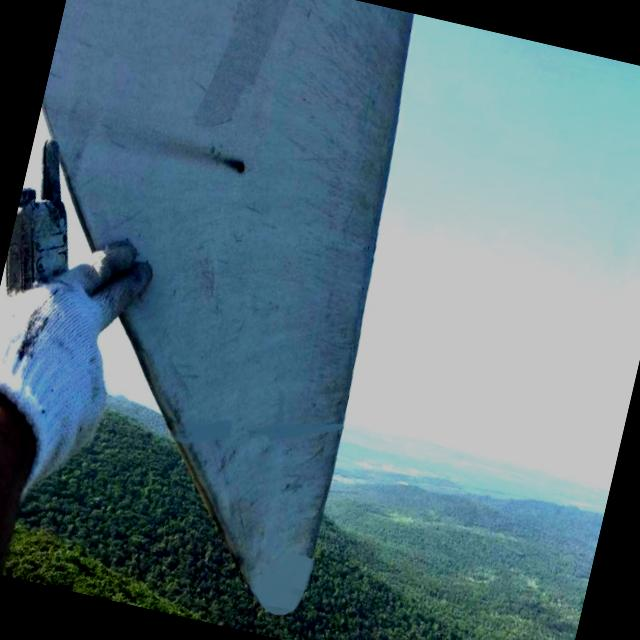crack: (179, 140, 253, 181)
